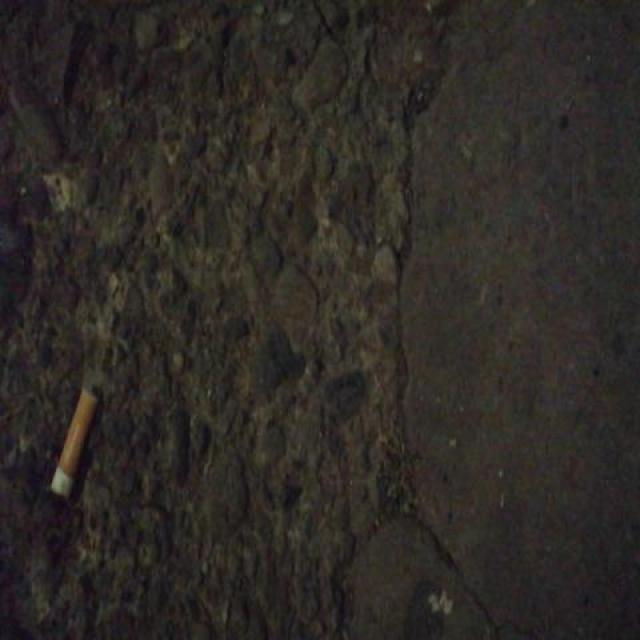non-organic waste: (46, 379, 105, 504)
